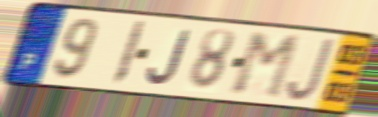8: (186, 27, 236, 95)
9: (49, 15, 99, 82)
I: (108, 19, 149, 89)
J: (285, 36, 337, 104), (145, 27, 193, 87)
M: (229, 31, 303, 102)
